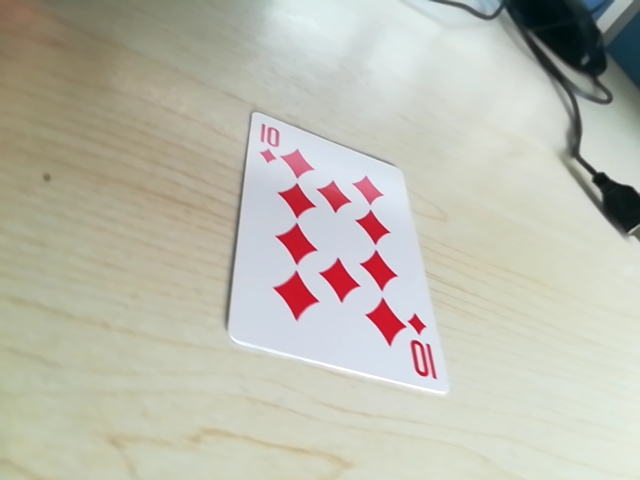fk 10: (401, 318, 438, 388), (250, 114, 293, 174)
